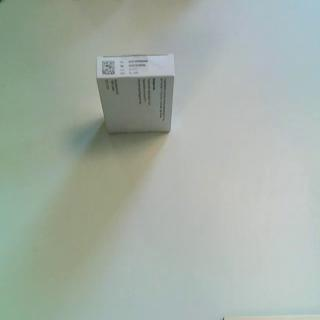dolcontin10mg: (96, 52, 177, 136)
